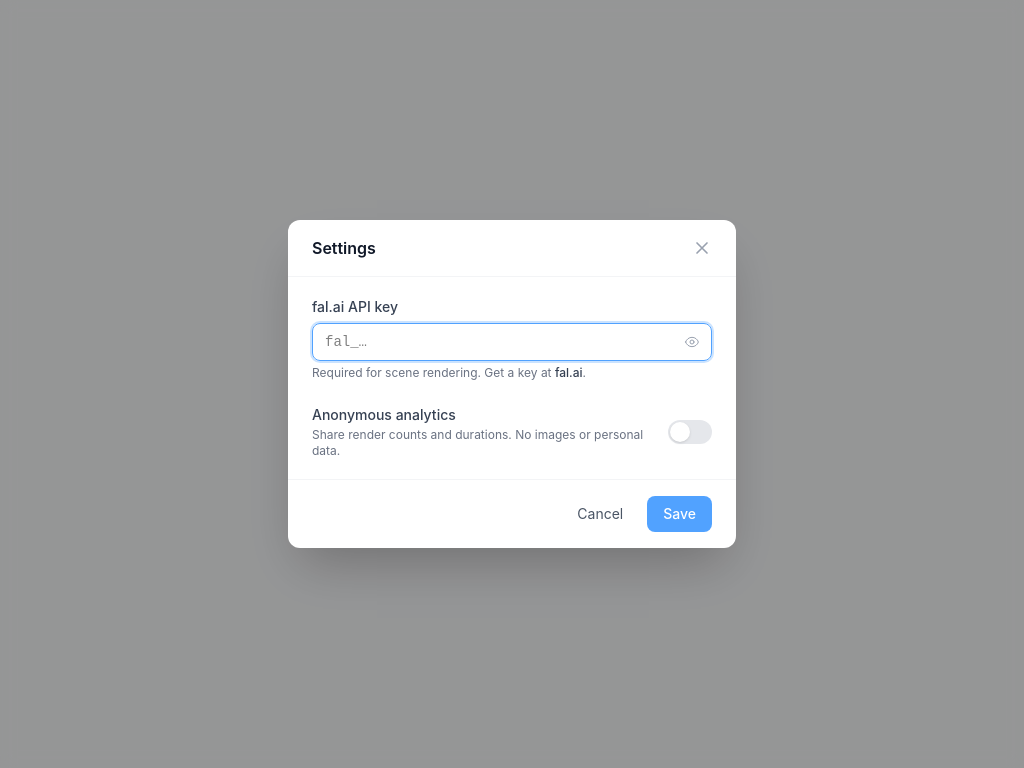
Test: SettingsPanel › Save button is disabled while saving
Click the button "Save" at point(680, 514), box x1=647 y1=496 x2=712 y2=532
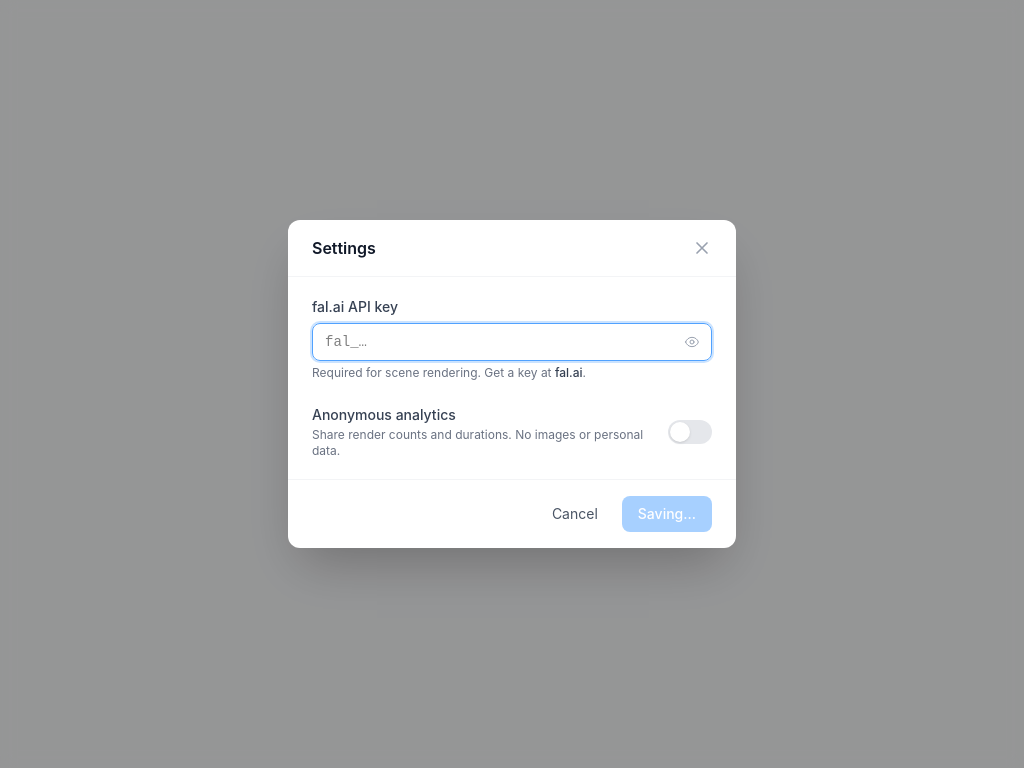
Result: the button "Saving…" is disabled at x1=622 y1=496 x2=712 y2=532
